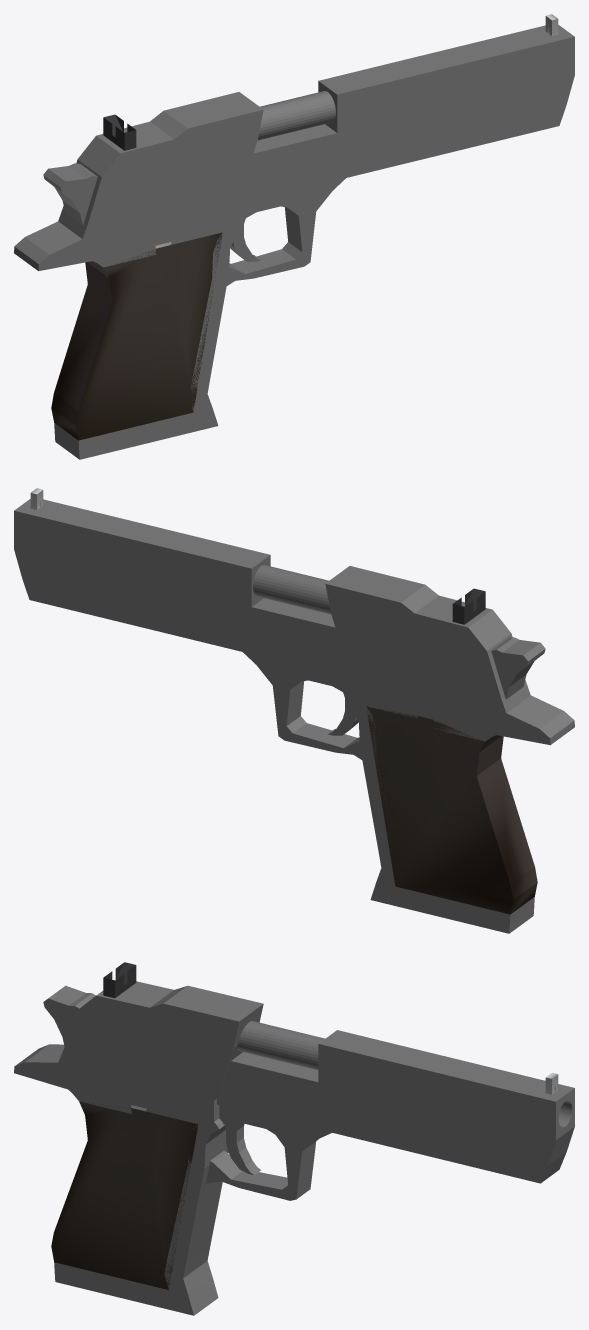
Rendered from Arma.fbx.
The picture shows the model from 3 angles, top to bottom: view 1: azimuth 30°, elevation 25°; view 2: azimuth 150°, elevation 25°; view 3: azimuth 330°, elevation 25°; orthographic projection.
Parts seen in each view (by area): view 1: Cube.004; view 2: Cube.004; view 3: Cube.004.
Boxes of the visible parts, left/top/right/bottom form: Cube.004: left=14, top=14, right=574, bottom=459; Cube.004: left=14, top=488, right=574, bottom=933; Cube.004: left=14, top=962, right=574, bottom=1315.
Size of the model in its own units: 486 by 272 by 38.24.
4 materials, 2 textured.
